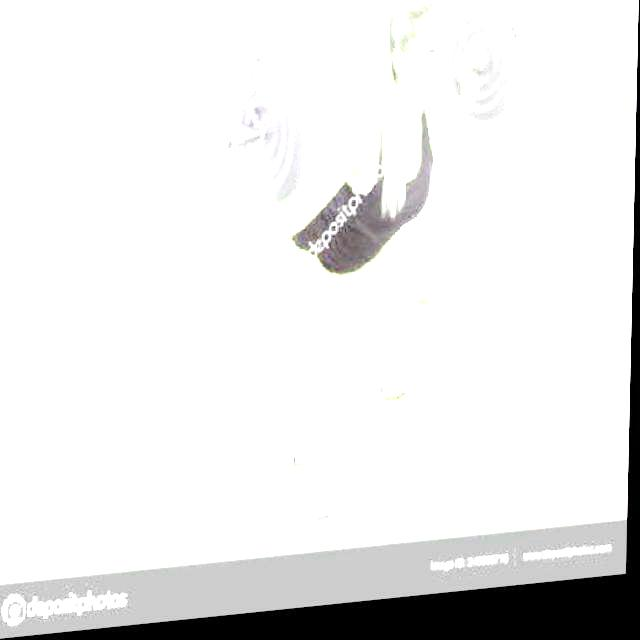barbell: (222, 50, 322, 222)
